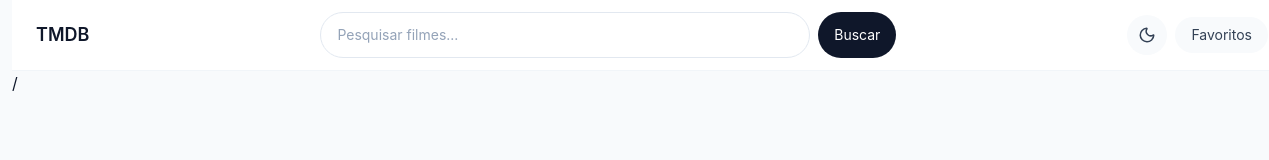
Header › navigates to /search with the typed term on submit
Step 1. Type "matrix" into the field with placeholder "Pesquisar filmes..." → (565, 35), box [320, 12, 810, 58]
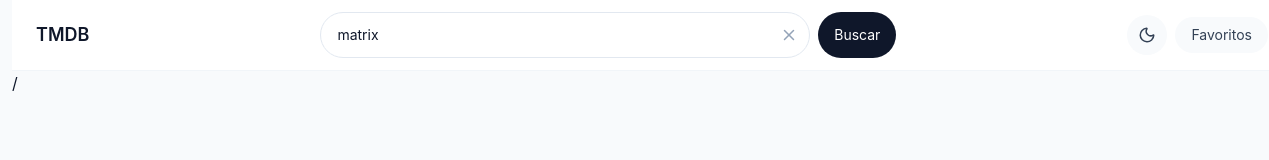
Step 2. Submit the form with placeholder "Pesquisar filmes...", box [320, 12, 896, 58]
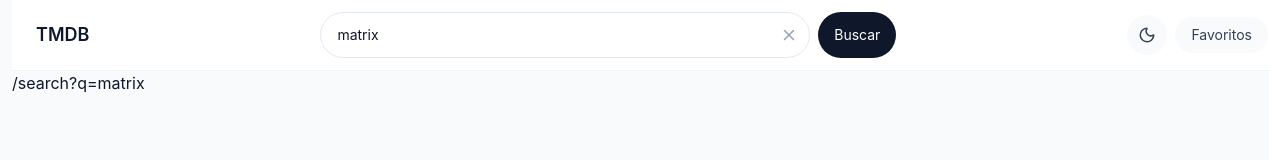
Expected: the text with test id "location" reads "/search?q=matrix", [12, 73, 145, 93]
